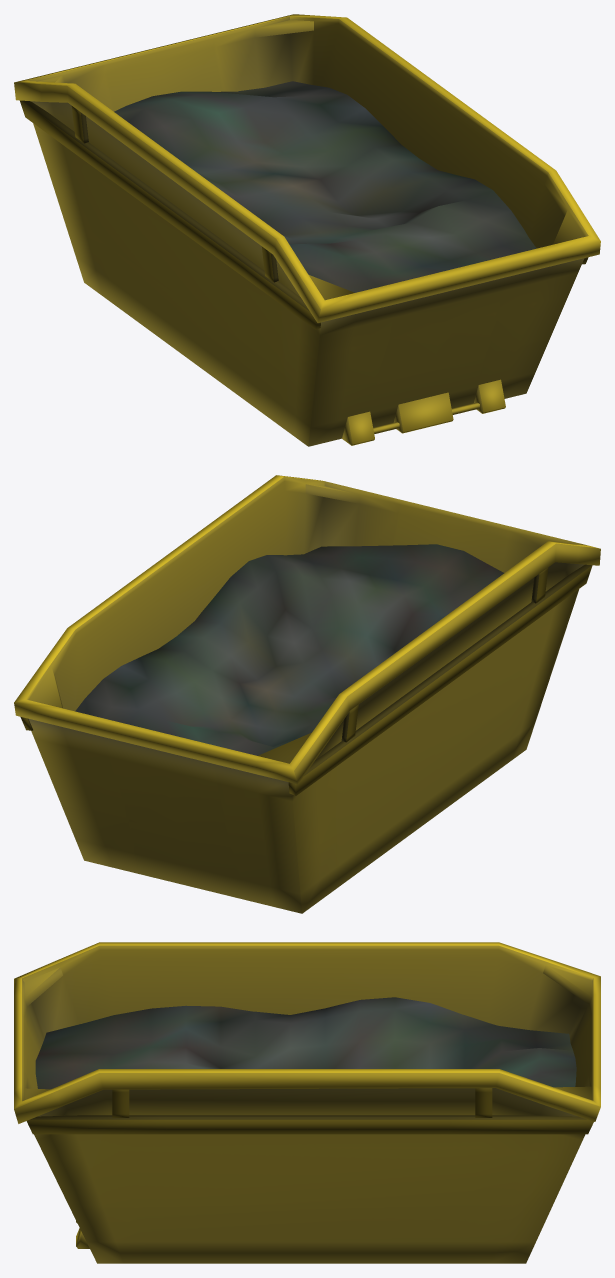
The model's file is furnishings-trash-skip_v1.glb.
3 views of the same model, one above another, from view 1: azimuth 30°, elevation 25°; view 2: azimuth 150°, elevation 25°; view 3: azimuth 270°, elevation 25° (orthographic). The views are drawn at different scales.
Parts seen in each view (by area): view 1: Skip_color, Skip_base; view 2: Skip_color, Skip_base; view 3: Skip_color, Skip_base.
Boxes of the visible parts, x1,y1,x2,y2 form: Skip_color: [14, 14, 600, 446]; Skip_base: [114, 81, 536, 292]; Skip_color: [14, 475, 600, 913]; Skip_base: [75, 544, 504, 755]; Skip_color: [14, 942, 600, 1263]; Skip_base: [35, 997, 576, 1089].
Bounding box in the file's own units: 2.28 × 1.66 × 4.3.
